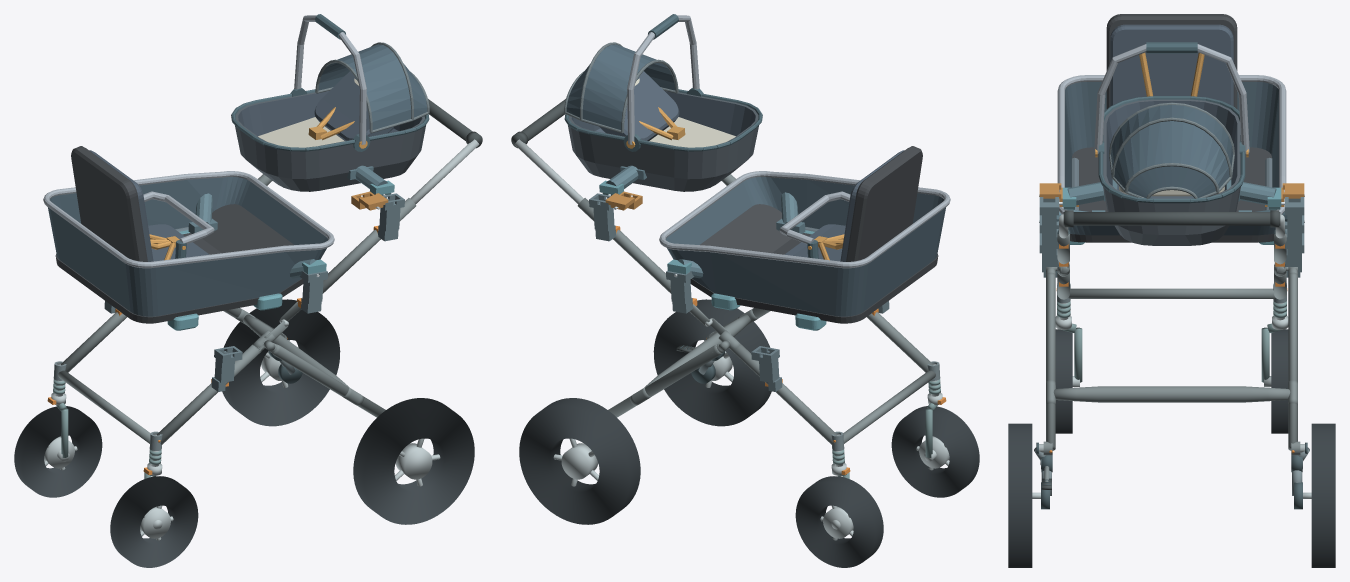
File: D22_w650_state1_wheel_L.glb
The picture shows the model from 3 angles, left to right: view 1: azimuth 30°, elevation 25°; view 2: azimuth 150°, elevation 25°; view 3: azimuth 270°, elevation 25°; orthographic projection. The views are drawn at different scales.
Visible parts, largest first — view 1: D22_Lower, D22_Upper, RL_tire.008, RR_tire.008, FL_tire.008, FR_tire.008, V46_rear_leg_-1.009, main_lower_-1.009, front_fixed_round_tube.008, D22_Lower_Mount_M, main_upper_-1.009, RL_sealed_hub.008 (+9 smaller); view 2: D22_Lower, D22_Upper, RR_tire.008, RL_tire.008, FR_tire.008, FL_tire.008, V46_rear_leg_1.009, main_lower_1.009, front_fixed_round_tube.008, D22_Lower_Mount_M, main_upper_1.009, RR_sealed_hub.008 (+9 smaller); view 3: D22_Lower, D22_Upper, V46_rearbar.009, RL_tire.008, RR_tire.008, round_handle.008, front_fixed_round_tube.008, D22_Upper_Mount_H, FL_tire.008, FR_tire.008, V46_rear_leg_1.009, V46_rear_leg_-1.009 (+4 smaller).
Boxes of the visible parts, x1,y1,x2,y2 form: D22_Lower: (43, 146, 334, 330); D22_Upper: (231, 14, 429, 191); RL_tire.008: (353, 398, 474, 524); RR_tire.008: (222, 299, 340, 426); FL_tire.008: (110, 476, 198, 567); FR_tire.008: (14, 406, 102, 497); V46_rear_leg_-1.009: (272, 344, 385, 417); main_lower_-1.009: (157, 344, 263, 444); front_fixed_round_tube.008: (58, 370, 150, 443); D22_Lower_Mount_M: (188, 193, 326, 278); main_upper_-1.009: (322, 198, 416, 293); RL_sealed_hub.008: (395, 443, 432, 479); D22_Lower: (659, 146, 950, 330); D22_Upper: (564, 14, 762, 191); RR_tire.008: (519, 398, 640, 524); RL_tire.008: (653, 299, 771, 426); FR_tire.008: (795, 476, 883, 567); FL_tire.008: (891, 406, 979, 497); V46_rear_leg_1.009: (608, 344, 721, 417); main_lower_1.009: (730, 344, 836, 444); front_fixed_round_tube.008: (843, 370, 935, 443); D22_Lower_Mount_M: (667, 192, 805, 278); main_upper_1.009: (577, 198, 671, 293); RR_sealed_hub.008: (561, 443, 598, 479); D22_Lower: (1057, 14, 1286, 244); D22_Upper: (1094, 42, 1249, 245); V46_rearbar.009: (1053, 386, 1290, 402); RL_tire.008: (1008, 423, 1032, 567); RR_tire.008: (1311, 423, 1335, 567); round_handle.008: (1063, 212, 1280, 225); front_fixed_round_tube.008: (1068, 288, 1275, 298); D22_Upper_Mount_H: (1059, 179, 1284, 209); FL_tire.008: (1055, 329, 1072, 433); FR_tire.008: (1271, 329, 1288, 433); V46_rear_leg_1.009: (1288, 272, 1297, 450); V46_rear_leg_-1.009: (1046, 272, 1055, 450).
Bounding box in the file's own units: 1.2 × 1.4 × 0.8171.
